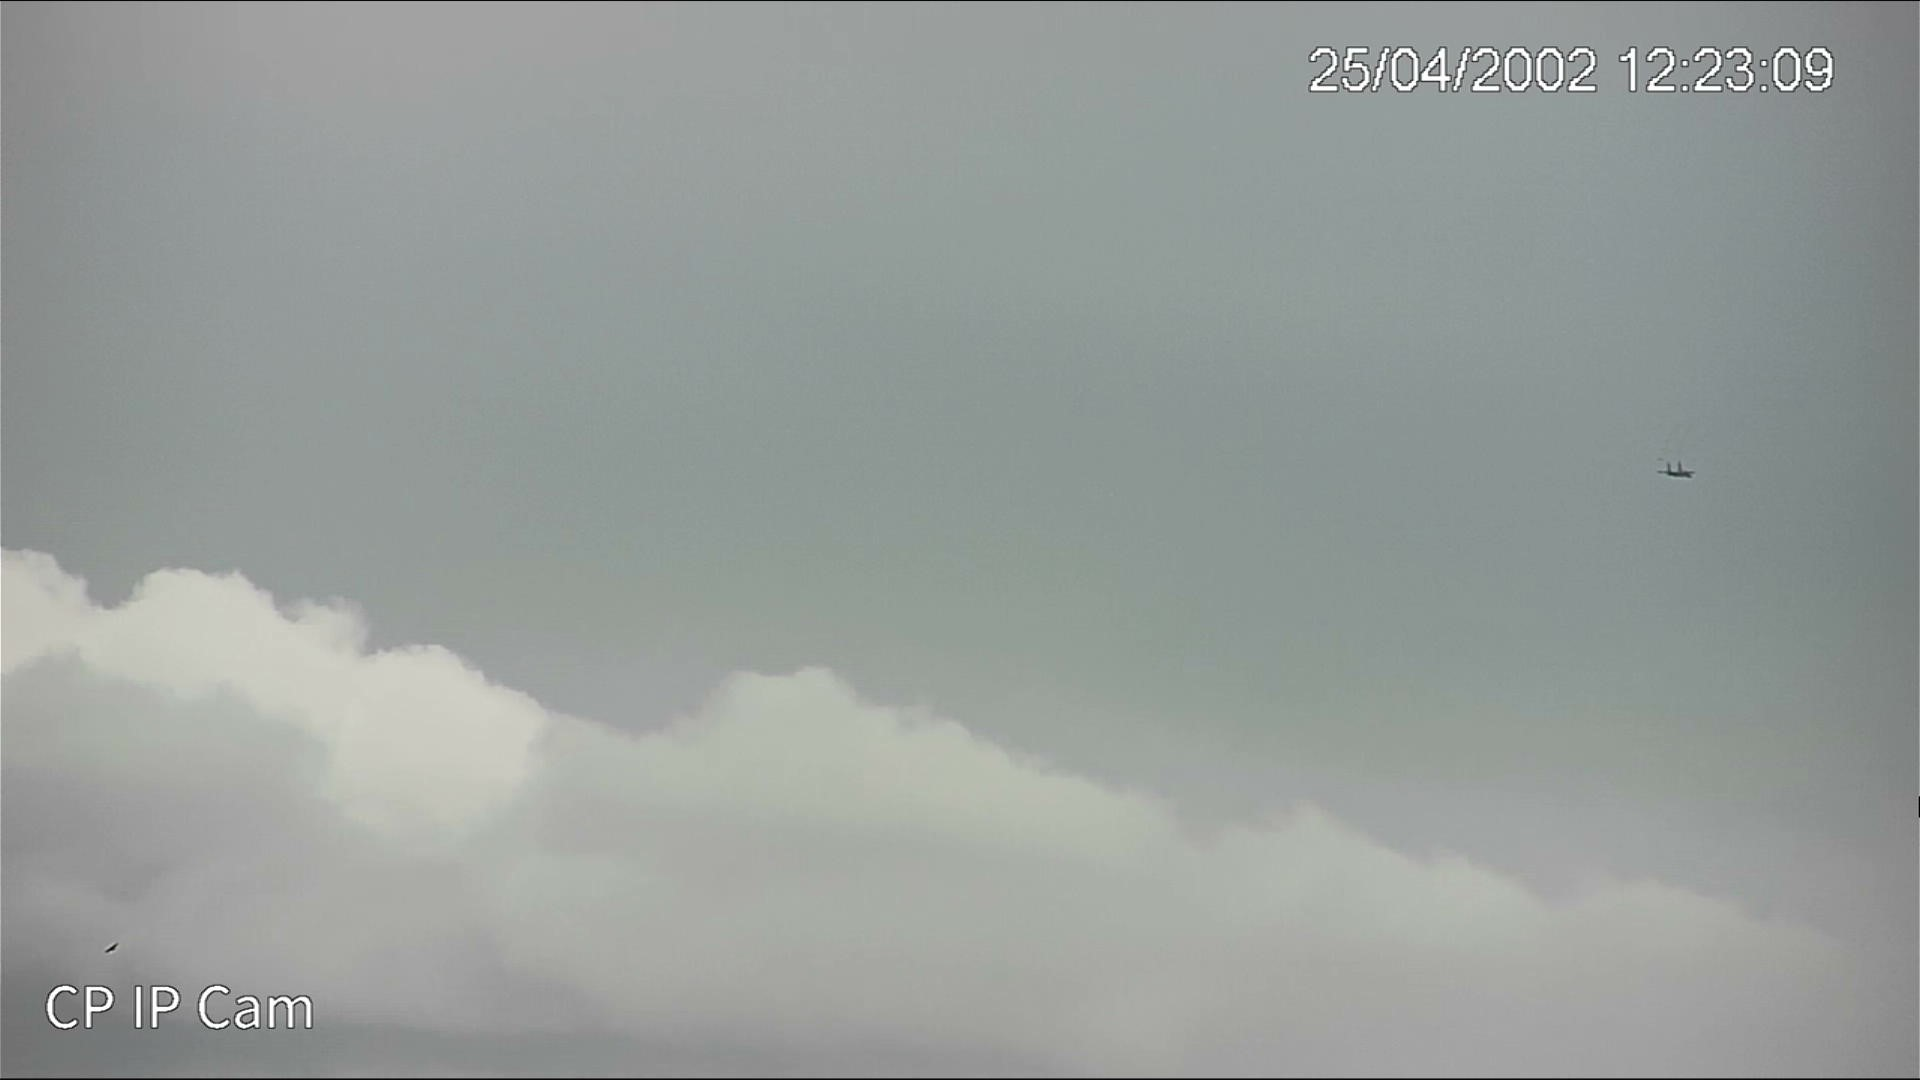SU_30: (1658, 459, 1697, 481)
